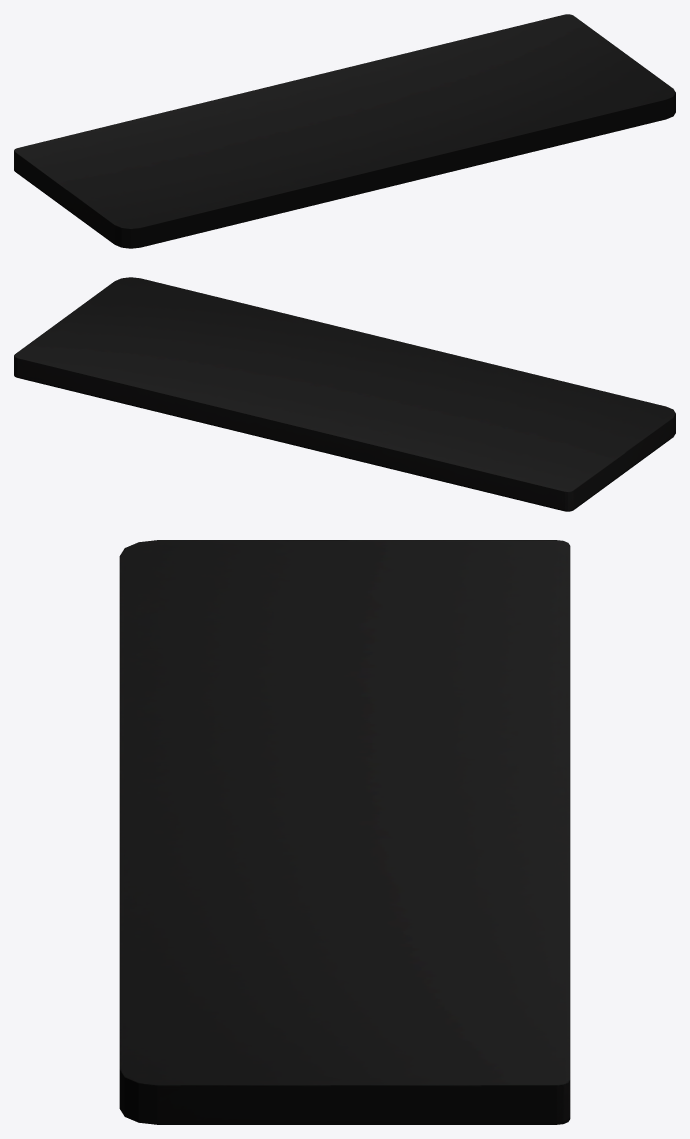
Rendered from keyboard.glb.
3 renders of one model, top to bottom at view 1: azimuth 30°, elevation 25°; view 2: azimuth 150°, elevation 25°; view 3: azimuth 270°, elevation 25°, orthographic. The views are drawn at different scales.
Parts seen in each view (by area): view 1: Keyboard; view 2: Keyboard; view 3: Keyboard.
Part boxes in pixels (x1=…): Keyboard: x1=14, y1=14, x2=675, y2=248; Keyboard: x1=14, y1=277, x2=675, y2=511; Keyboard: x1=119, y1=540, x2=570, y2=1124.
Size of the model in its own units: 1.36 by 0.0459 by 0.4753.
Materials: 1 (1 with a texture image).
